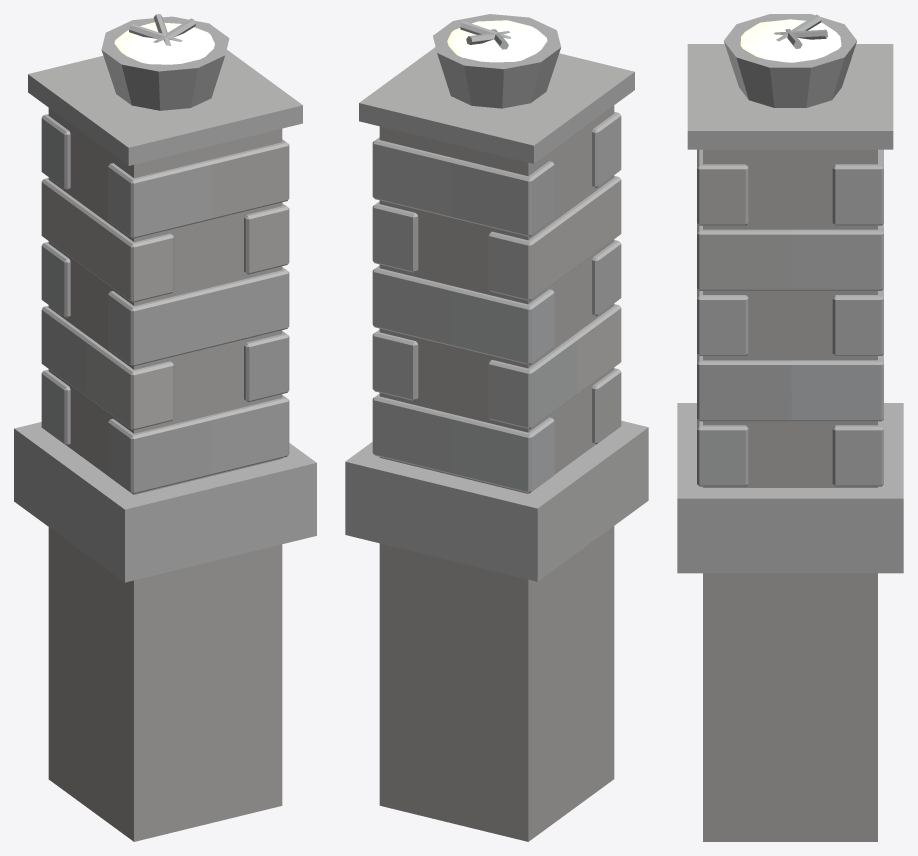
Rendered from wall_pier.glb.
3 views of the same model, side by side, from view 1: azimuth 30°, elevation 25°; view 2: azimuth 150°, elevation 25°; view 3: azimuth 270°, elevation 25° (orthographic). The views are drawn at different scales.
Parts seen in each view (by area): view 1: SM_FK_wall_pier; view 2: SM_FK_wall_pier; view 3: SM_FK_wall_pier.
Boxes of the visible parts, box(x1,y1,x2,y2) form: SM_FK_wall_pier: box(14, 14, 316, 841); SM_FK_wall_pier: box(345, 14, 648, 841); SM_FK_wall_pier: box(677, 14, 903, 841).
Bounding box in the file's own units: 4.4 × 16.73 × 4.4.
